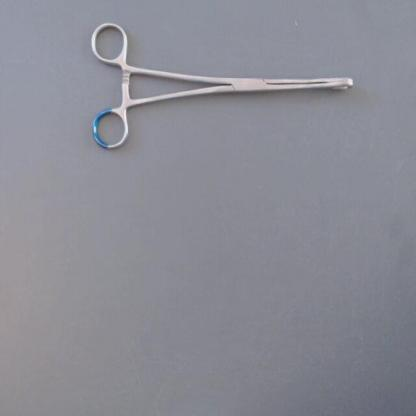Sponge Forceps: (85, 16, 362, 152)
